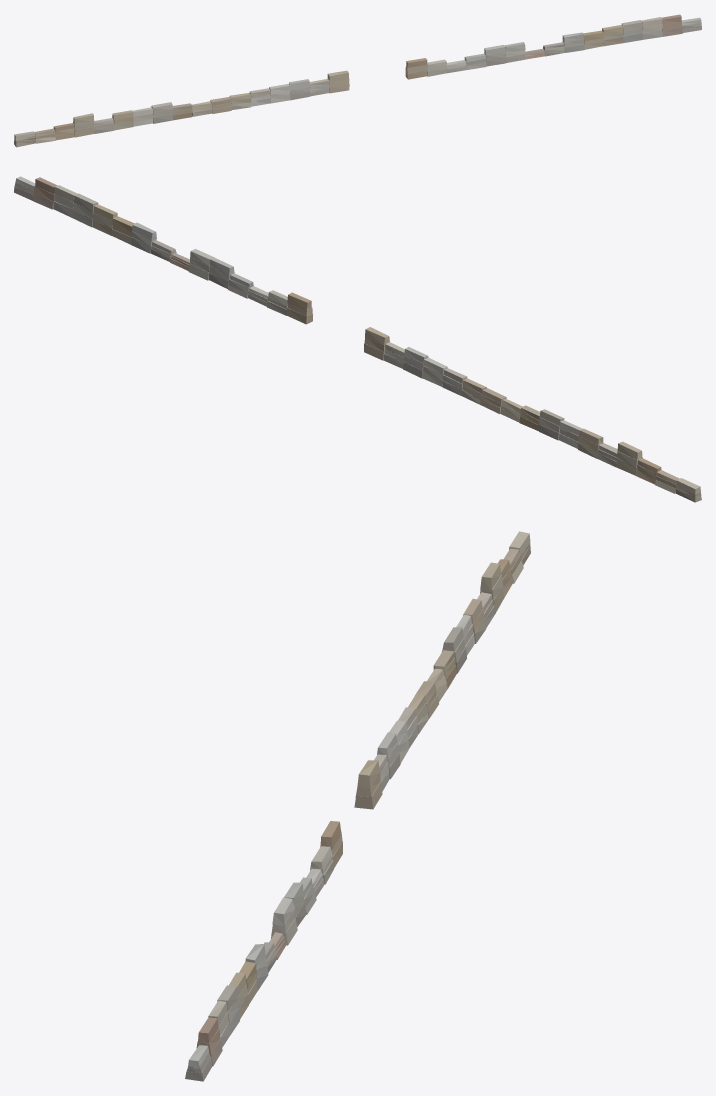
Rendered from farm_12_21_mid.glb.
The picture shows the model from 3 angles, top to bottom: view 1: azimuth 30°, elevation 25°; view 2: azimuth 150°, elevation 25°; view 3: azimuth 270°, elevation 25°; orthographic projection. The views are drawn at different scales.
Parts seen in each view (by area): view 1: geometry_0; view 2: geometry_0; view 3: geometry_0.
Boxes of the visible parts, x1=… form: geometry_0: x1=14, y1=14, x2=701, y2=147; geometry_0: x1=14, y1=176, x2=701, y2=502; geometry_0: x1=185, y1=531, x2=530, y2=1081.
Size of the model in its own units: 53.5 by 3.9 by 13.25.
